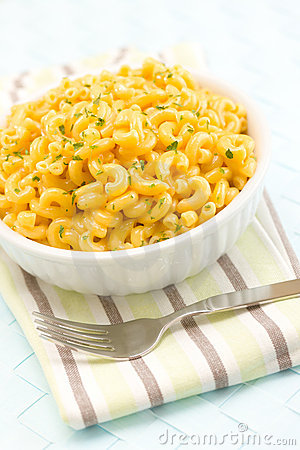macncheese: (1, 58, 258, 249)
